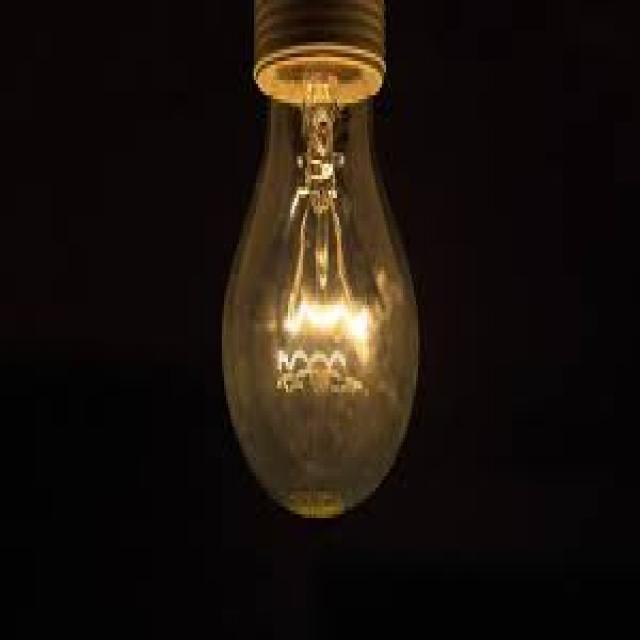bulb_on: (219, 4, 419, 518)
